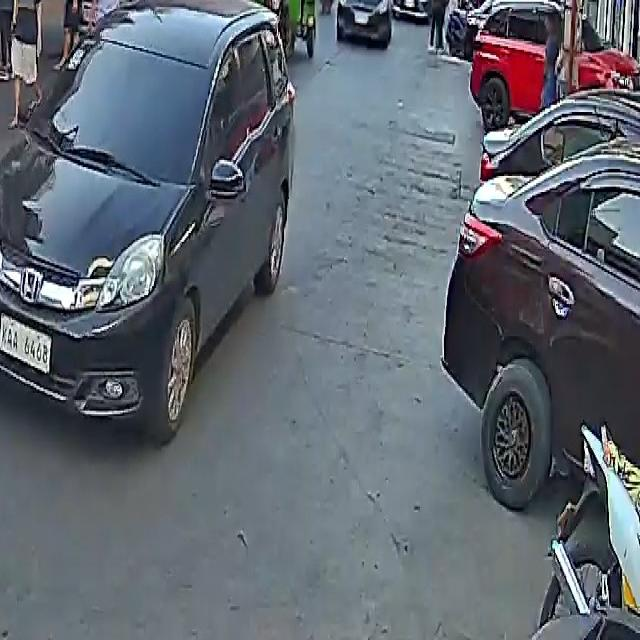car: (0, 0, 299, 441), (444, 112, 640, 514), (467, 0, 638, 128), (333, 0, 393, 46), (389, 0, 433, 16)
